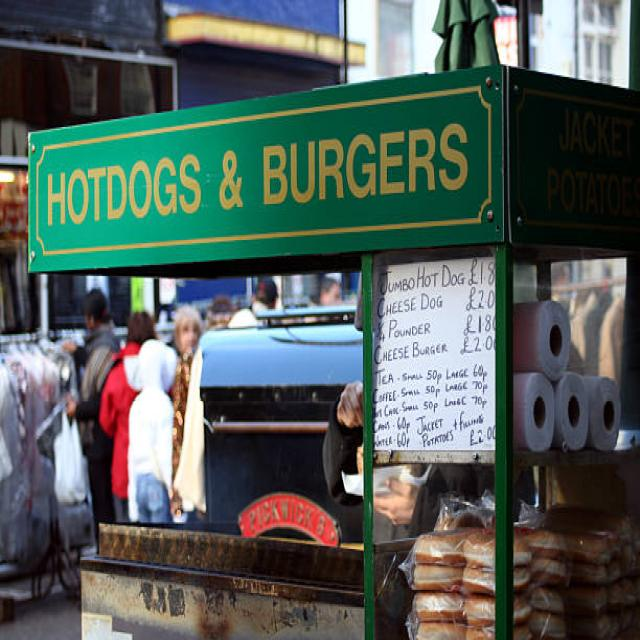Emperan: (25, 59, 639, 640)
